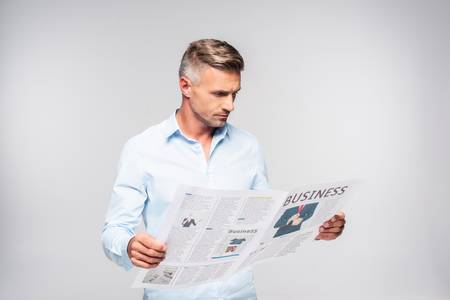S_shirt: (103, 108, 317, 300)
